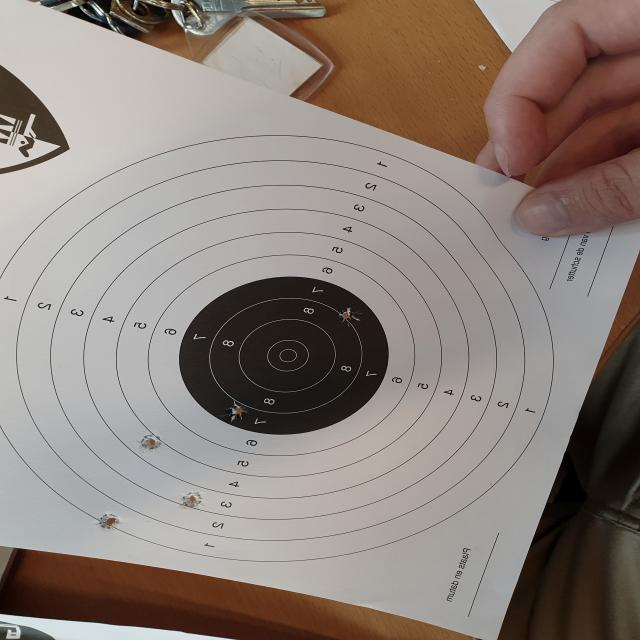1: (94, 510, 125, 531)
3: (180, 491, 203, 509)
5: (136, 434, 163, 451)
8: (220, 401, 252, 424), (336, 305, 364, 327)
Target: (0, 134, 551, 564)
black_contour: (178, 275, 389, 435)
